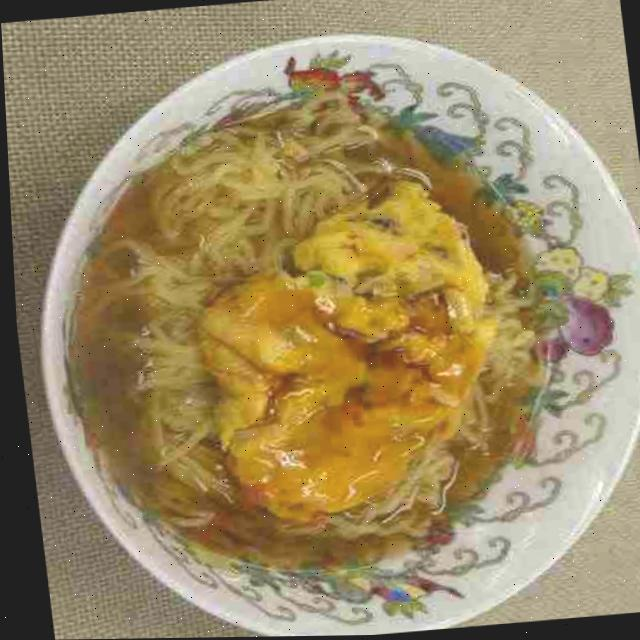面条主食: (26, 53, 595, 621)
